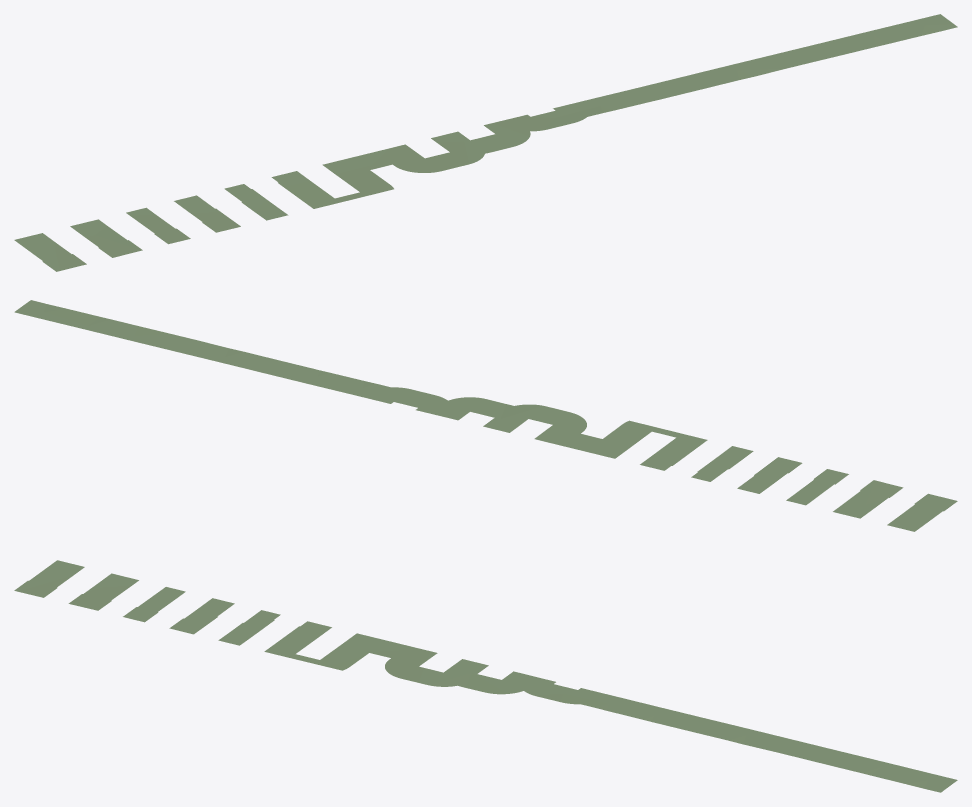
File: SM_MPRR_CampusGreen_-1_-1.fbx
3 renders of one model, top to bottom at view 1: azimuth 30°, elevation 25°; view 2: azimuth 150°, elevation 25°; view 3: azimuth 330°, elevation 25°, orthographic. The views are drawn at different scales.
Parts seen in each view (by area): view 1: SM_MPRR_CampusGreen_-1_-1; view 2: SM_MPRR_CampusGreen_-1_-1; view 3: SM_MPRR_CampusGreen_-1_-1.
Part boxes in pixels (box(x1,y1,x2,y2)): SM_MPRR_CampusGreen_-1_-1: box(14, 14, 957, 271); SM_MPRR_CampusGreen_-1_-1: box(14, 300, 957, 531); SM_MPRR_CampusGreen_-1_-1: box(14, 560, 957, 792).
Size of the model in its own units: 14652 by 1191 by 16.57.
